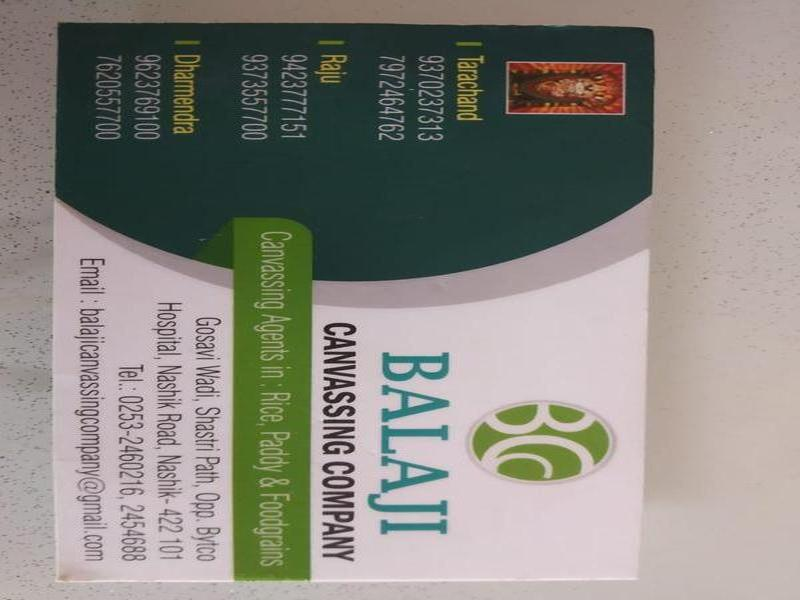card: (52, 20, 656, 585)
